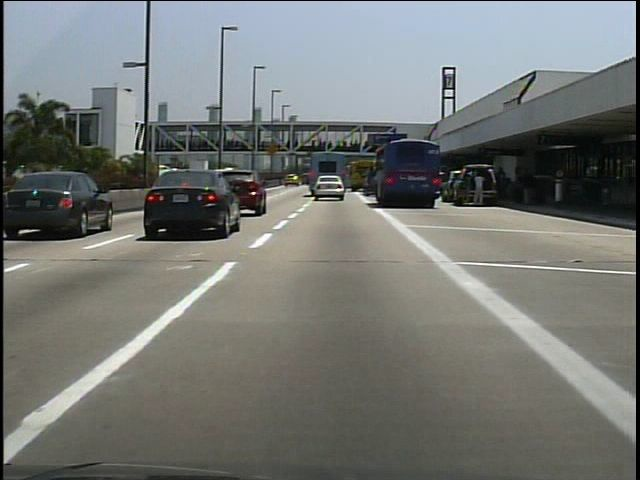person: (520, 167, 536, 209), (473, 169, 488, 210)
